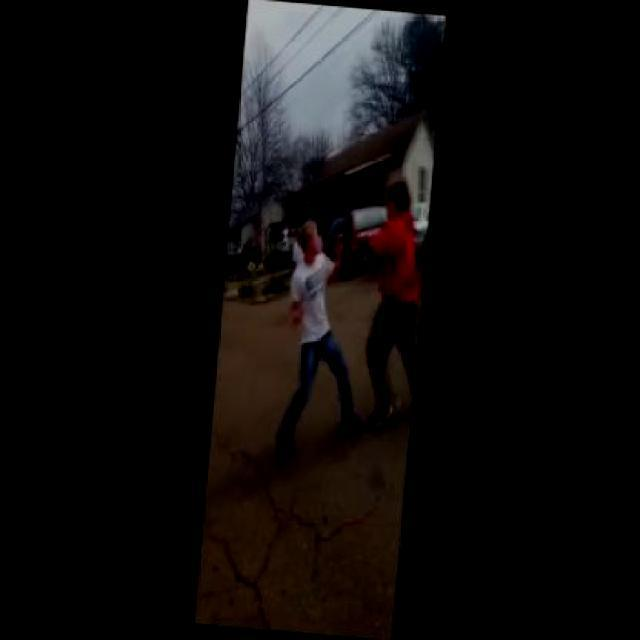fight: (284, 168, 430, 358)
